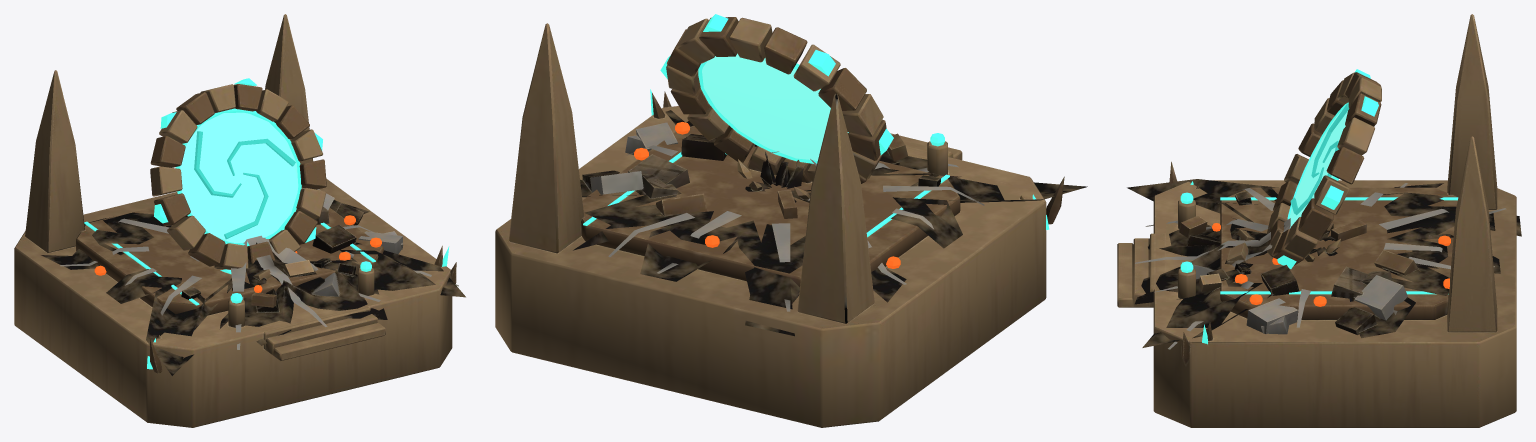
Rendered from gate-ring-nahara.glb.
3 views of the same model, side by side, from view 1: azimuth 30°, elevation 25°; view 2: azimuth 150°, elevation 25°; view 3: azimuth 270°, elevation 25° (orthographic). The views are drawn at different scales.
Visible parts, largest first — view 1: site_gate_ring_nahara_body, site_gate_ring_nahara_ruin, site_gate_ring_nahara_core; view 2: site_gate_ring_nahara_body, site_gate_ring_nahara_ruin, site_gate_ring_nahara_core; view 3: site_gate_ring_nahara_body, site_gate_ring_nahara_ruin, site_gate_ring_nahara_core.
Boxes of the visible parts, x1,y1,x2,y2 form: site_gate_ring_nahara_body: (14, 14, 456, 427); site_gate_ring_nahara_ruin: (41, 188, 465, 375); site_gate_ring_nahara_core: (180, 112, 298, 242); site_gate_ring_nahara_body: (495, 14, 1064, 427); site_gate_ring_nahara_ruin: (573, 110, 1087, 336); site_gate_ring_nahara_core: (702, 53, 848, 160); site_gate_ring_nahara_body: (1117, 14, 1516, 427); site_gate_ring_nahara_ruin: (1127, 179, 1521, 349); site_gate_ring_nahara_core: (1289, 103, 1349, 228).
Size of the model in its own units: 5.34 by 4.05 by 5.46.
6 materials, 1 textured.
